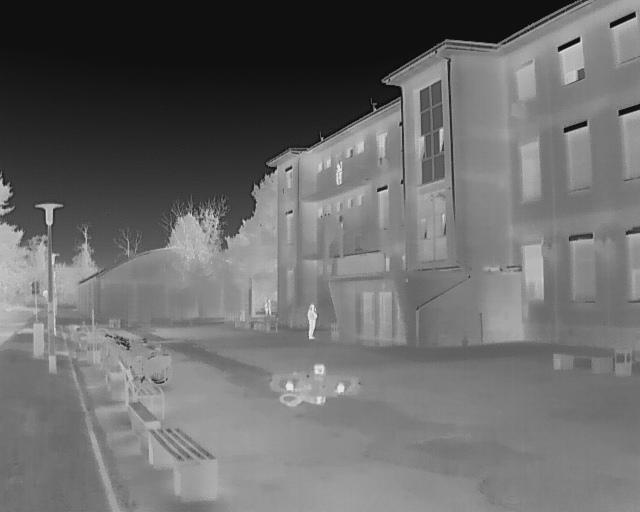drone: (264, 351, 366, 423)
